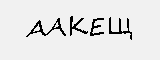А: (47, 15, 67, 41), (25, 17, 46, 41)
Е: (89, 13, 107, 39)
К: (69, 14, 89, 40)
Щ: (108, 15, 135, 43)
